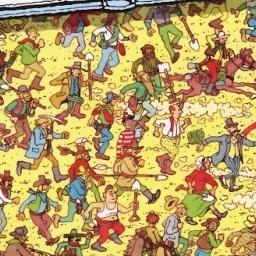waldo: (118, 112, 138, 144), (122, 112, 134, 130)
